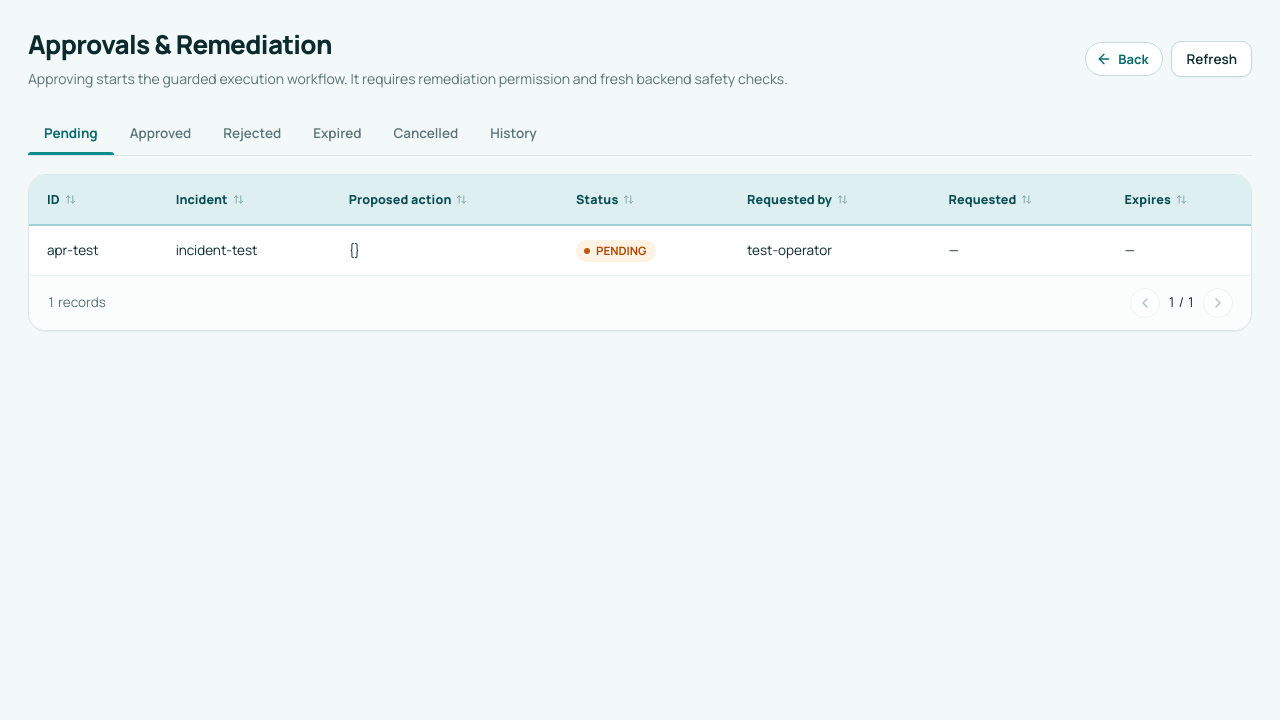
Test: operator authentication UI › does not let the requester approve their own request
This screenshot has width=1280, height=720.
Step 1. Click the text "apr-test" → (93,250), box [29,225,158,275]
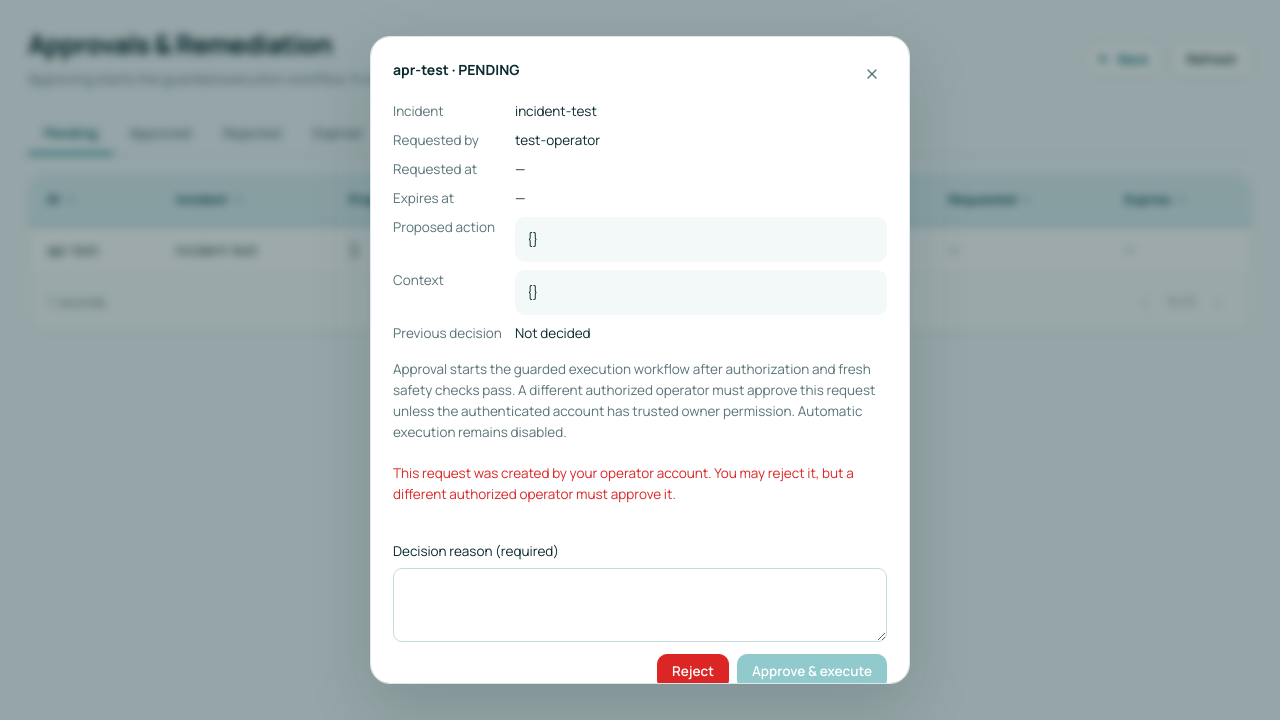
Result: the dialog is shown at [370,36,910,684]
Result: the message shows "a different authorized operator must approve" at [393,464,854,503]
Result: the button "Approve & execute" is disabled at [737,654,887,684]
